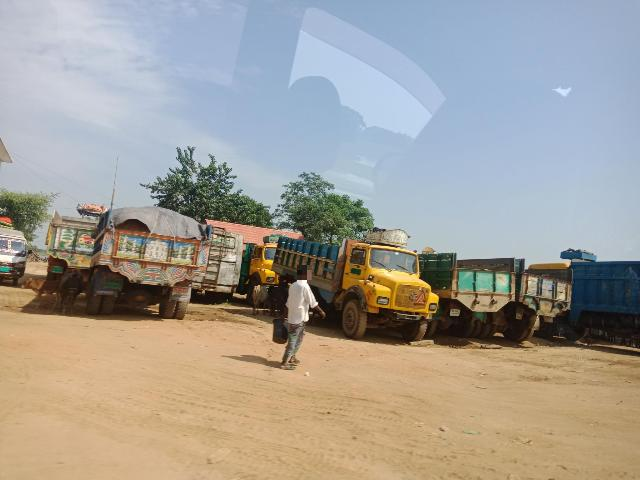bus: (201, 226, 243, 308)
truck: (277, 230, 438, 347), (98, 203, 203, 316), (426, 240, 522, 325), (568, 254, 640, 344), (48, 207, 98, 302), (523, 256, 573, 328), (246, 236, 279, 300), (0, 213, 28, 288)
